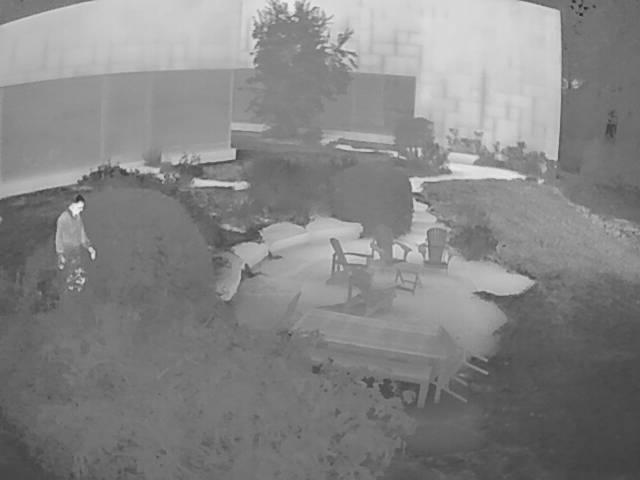person: (54, 196, 98, 299)
